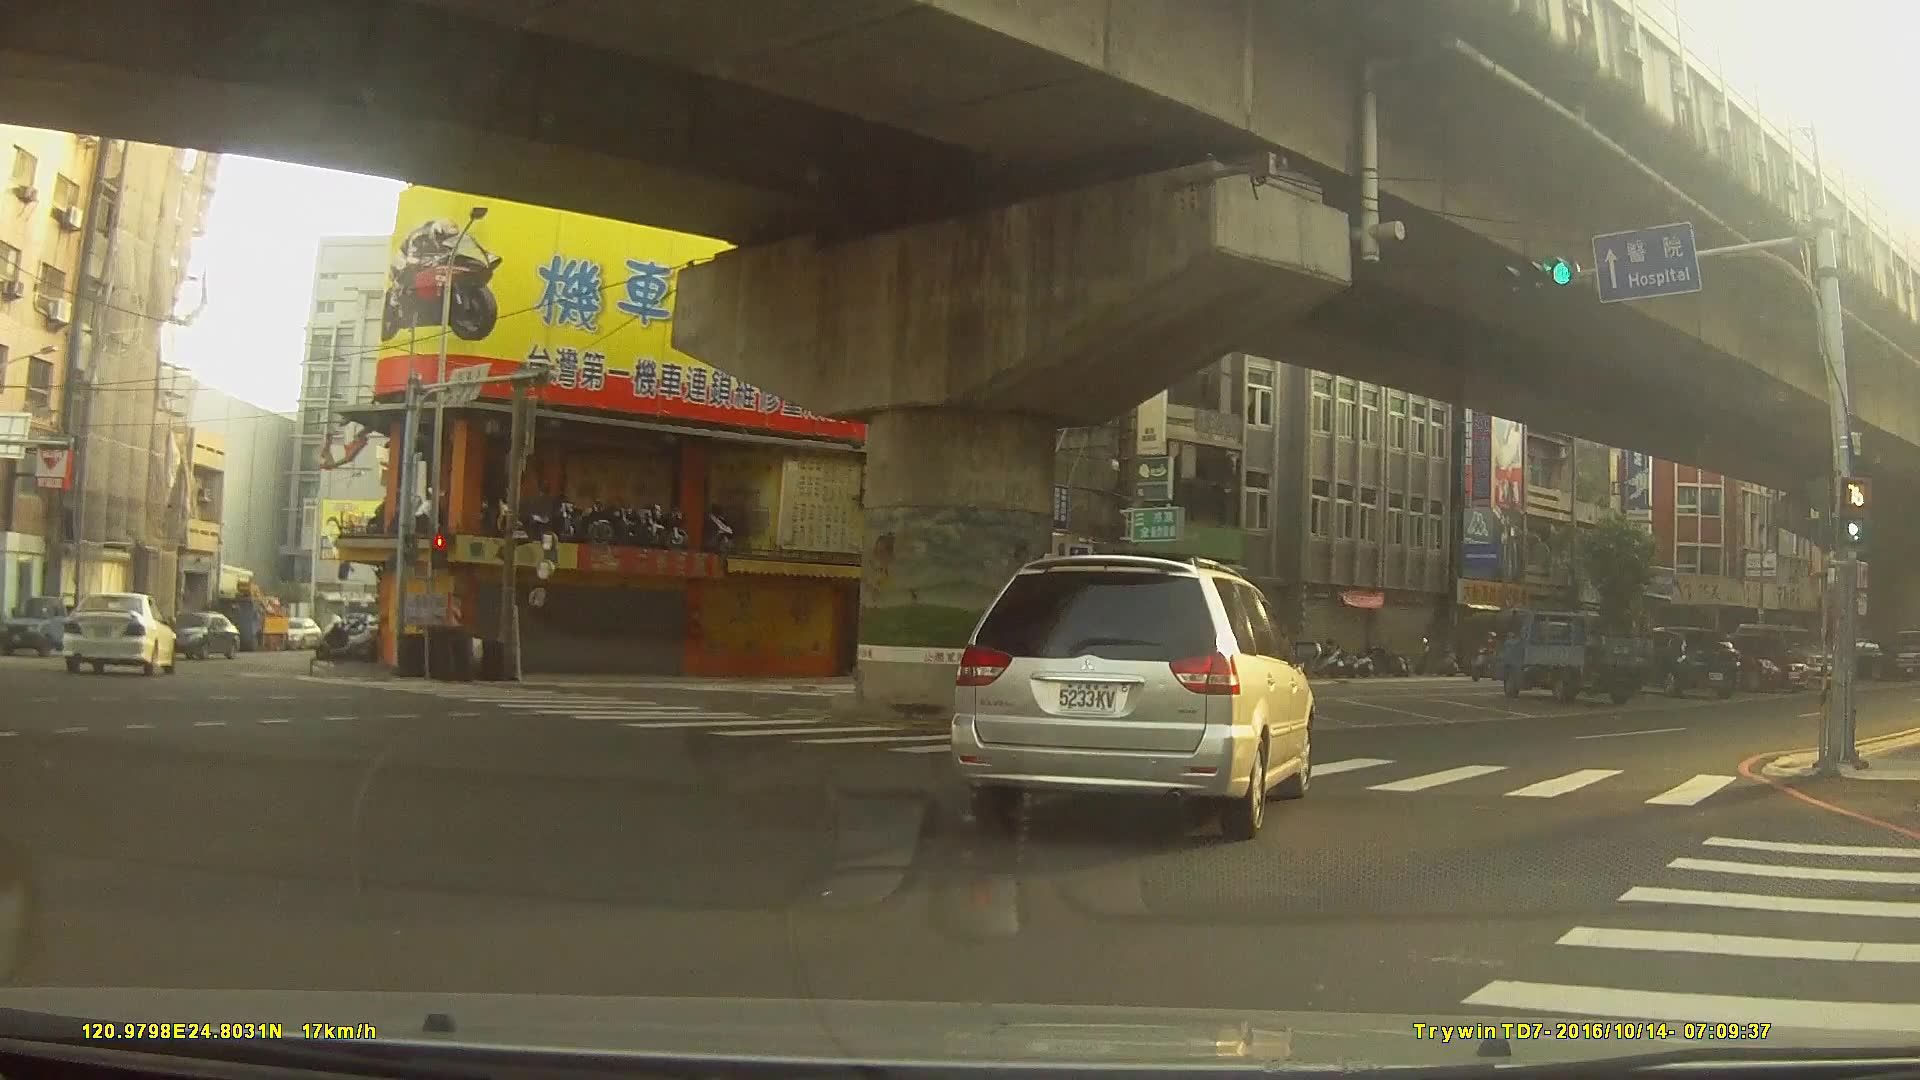vehicle: (948, 554, 1315, 840), (1489, 611, 1654, 707), (58, 589, 175, 676), (1613, 624, 1741, 696), (1706, 630, 1808, 692), (0, 593, 87, 655), (164, 609, 236, 658), (278, 616, 320, 647)
